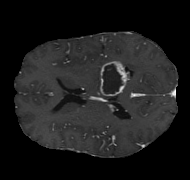Edema: (94, 56, 144, 96)
EnhancingTumors: (102, 65, 127, 93)
Necrosis: (104, 68, 121, 90)
